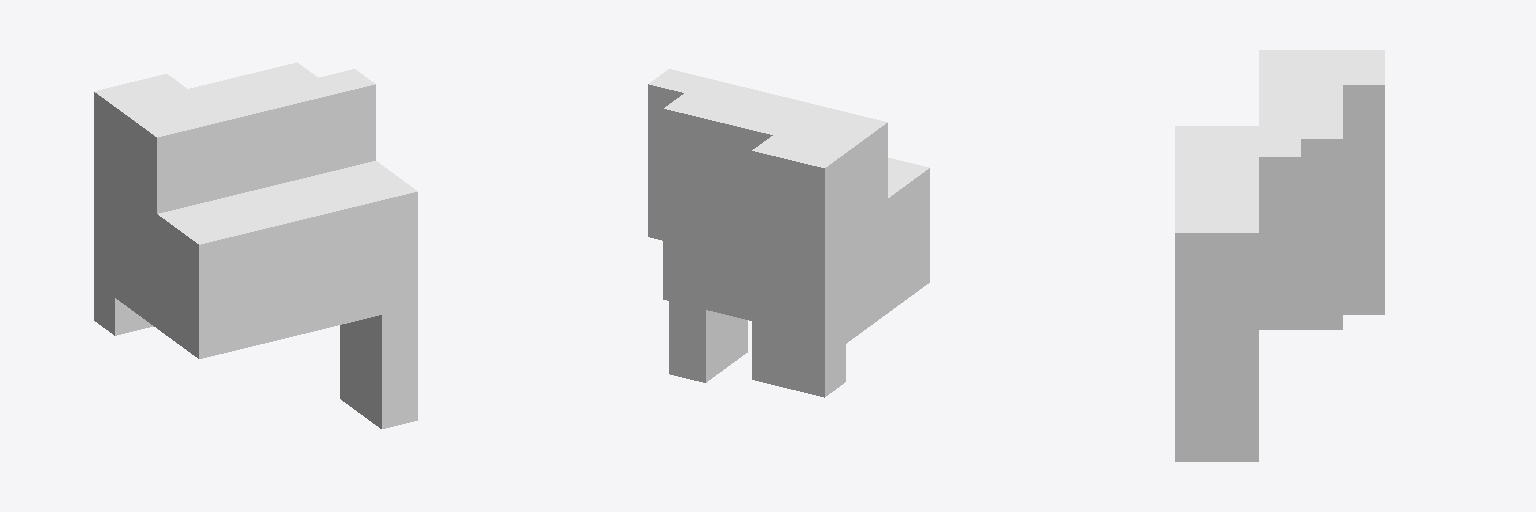
The model's file is Koala_M.obj.
The picture shows the model from 3 angles: view 1: azimuth 30°, elevation 25°; view 2: azimuth 150°, elevation 25°; view 3: azimuth 270°, elevation 25°; orthographic projection.
Visible parts, largest first — view 1: object 1; view 2: object 1; view 3: object 1.
Boxes of the visible parts, box(x1,y1,x2,y2) form: object 1: box(94, 62, 417, 428); object 1: box(648, 69, 929, 397); object 1: box(1175, 50, 1384, 461).
Size of the model in its own units: 0.6 by 0.8 by 0.5.